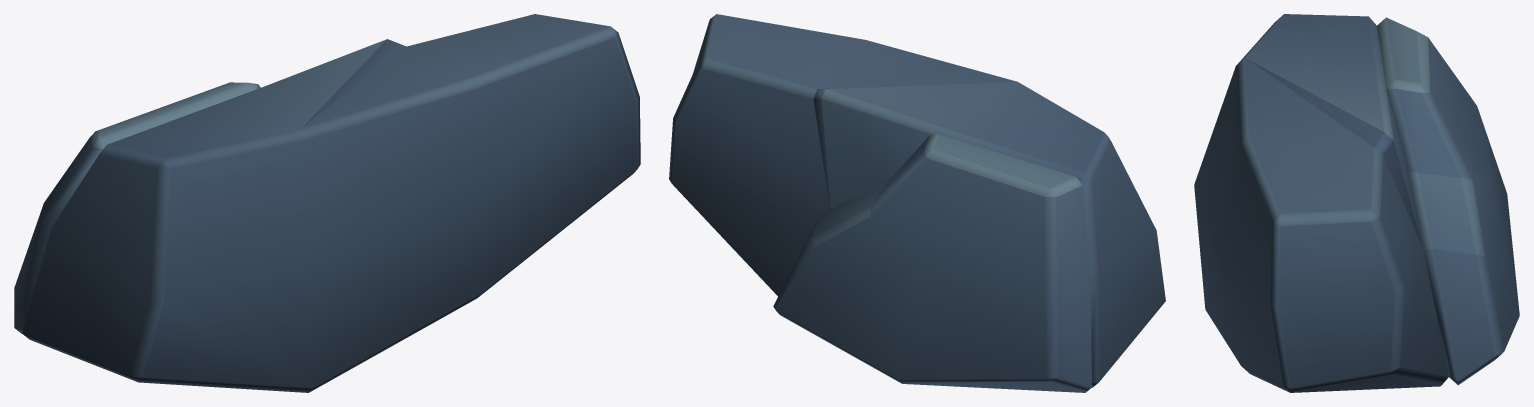
The model's file is rock_026.fbx.
3 renders of one model, left to right at view 1: azimuth 30°, elevation 25°; view 2: azimuth 150°, elevation 25°; view 3: azimuth 270°, elevation 25°, orthographic. The views are drawn at different scales.
Visible parts, largest first — view 1: rock_026; view 2: rock_026; view 3: rock_026.
Boxes of the visible parts, x1=… form: rock_026: x1=14, y1=14, x2=640, y2=392; rock_026: x1=669, y1=14, x2=1165, y2=392; rock_026: x1=1194, y1=14, x2=1519, y2=392.
Bounding box in the file's own units: 744 × 368 × 367.
Materials: 1 (1 with a texture image).
